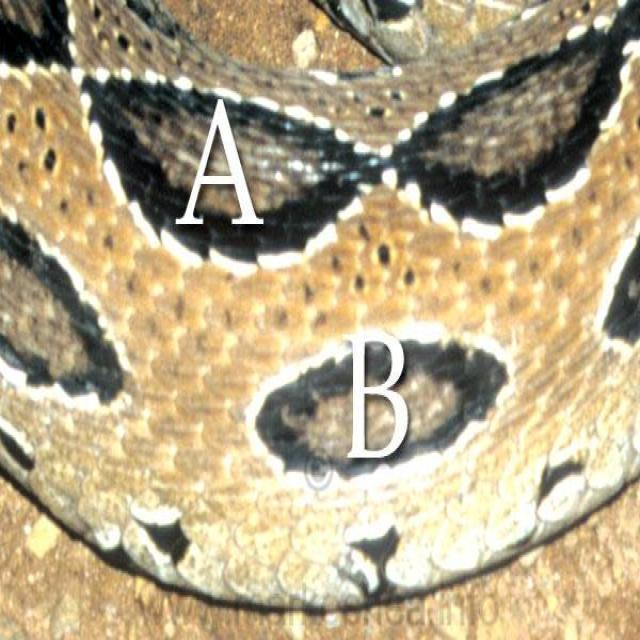Snake: (0, 0, 639, 613)
